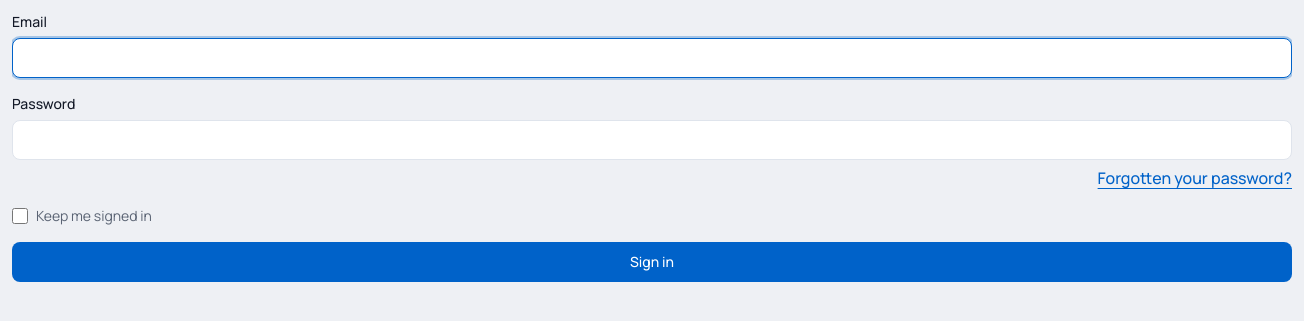
LoginForm › keeps the email address when the password was wrong
Type "aino@example.test" into the field labelled "Email" at (652, 58), box top-left (12, 38), bottom-right (1292, 78)
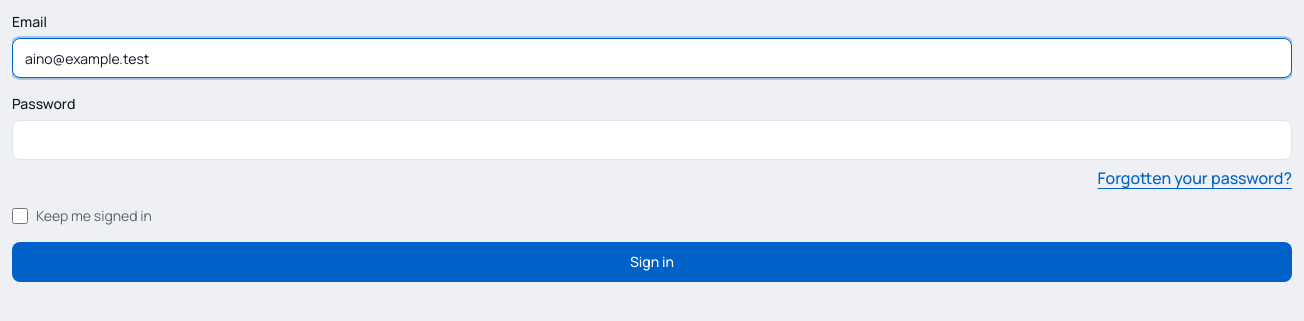
Type "not-the-password" into the password field labelled "Password" at (652, 140), box top-left (12, 120), bottom-right (1292, 160)
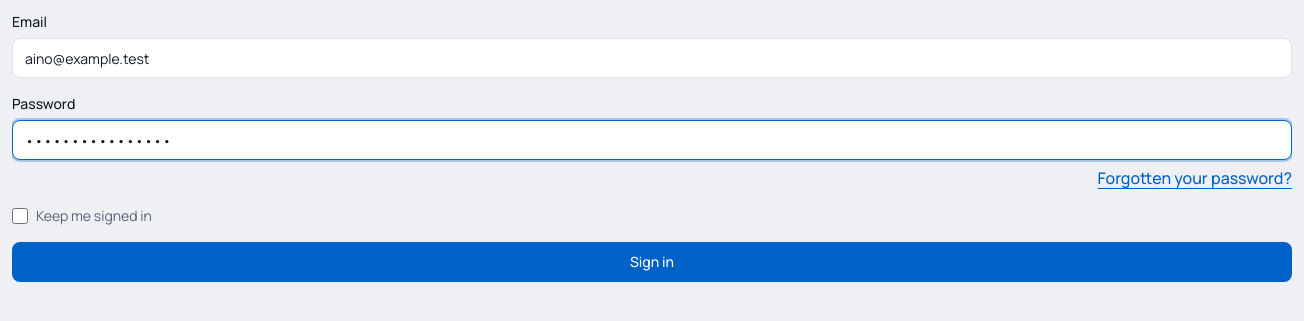
Click the button "Sign in" at (652, 262), box top-left (12, 242), bottom-right (1292, 282)
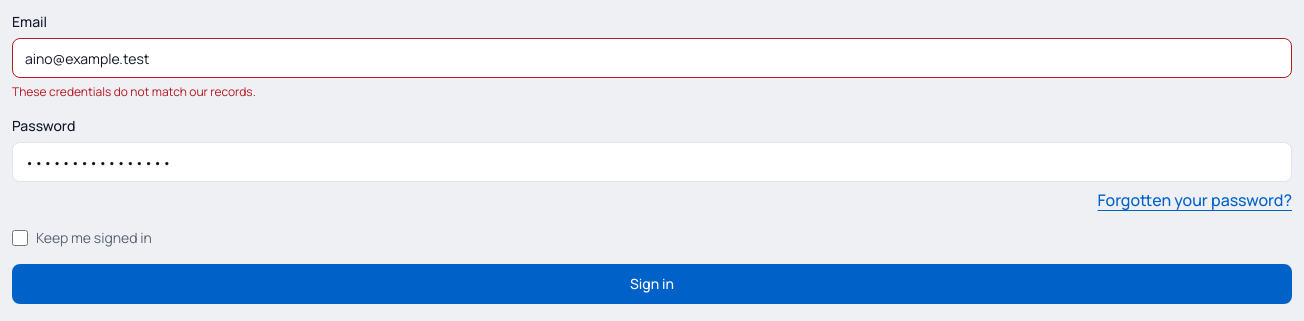
Expected: the list item "These credentials do not match our records." is shown, top-left (12, 83), bottom-right (256, 100)
